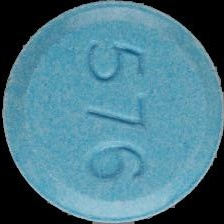0093-0576: (0, 0, 224, 224)
